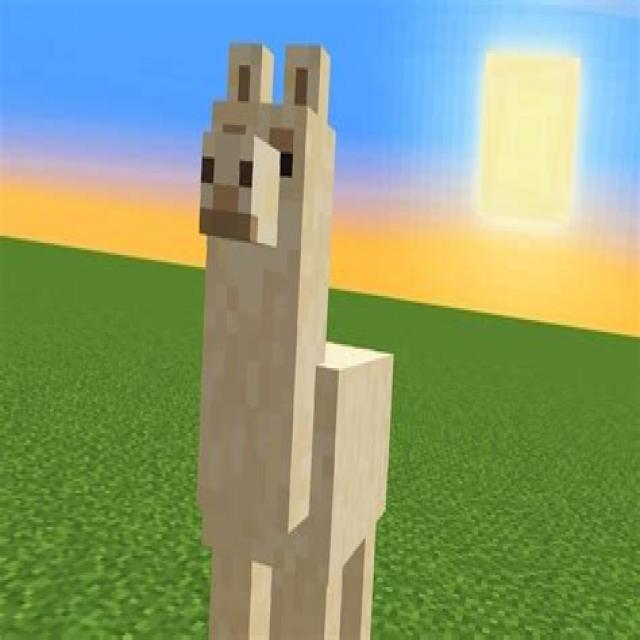Llama: (197, 36, 396, 640)
